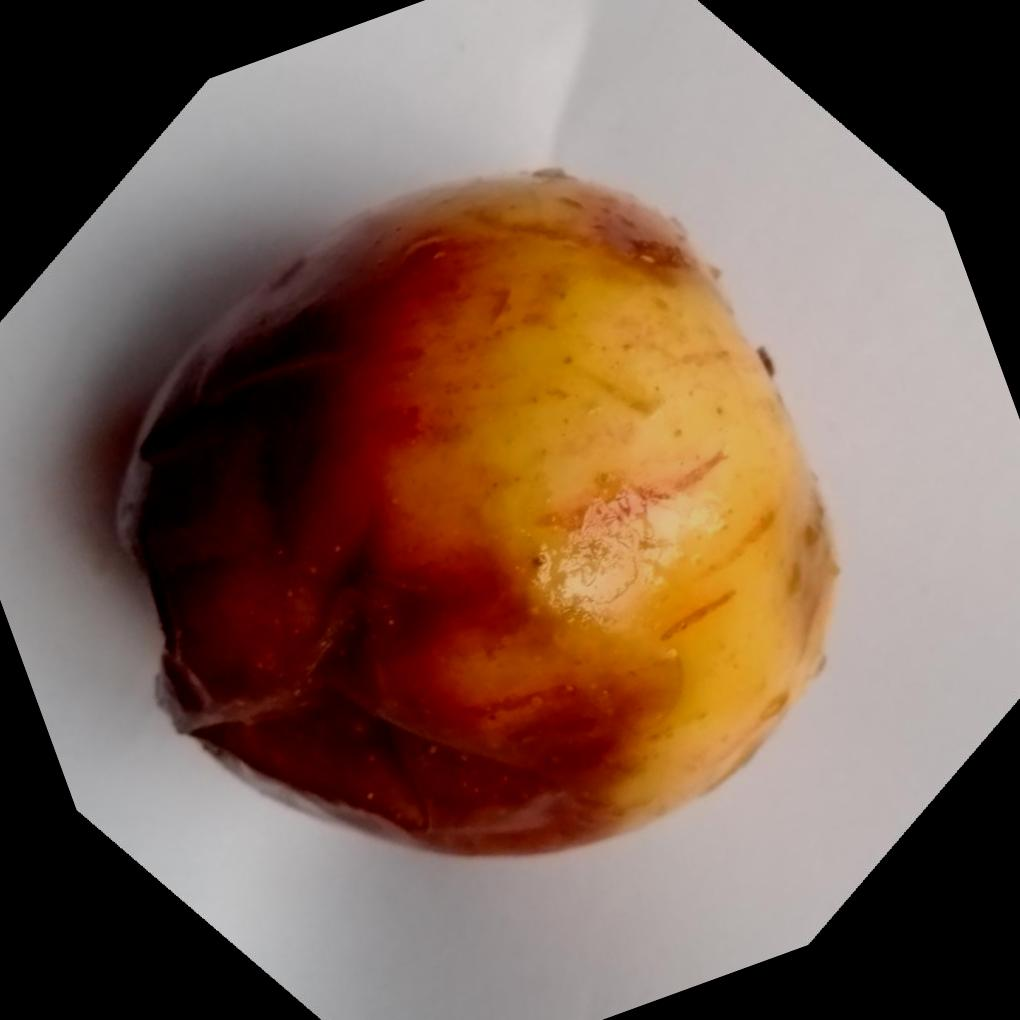FreshOrange: (116, 166, 844, 857)
